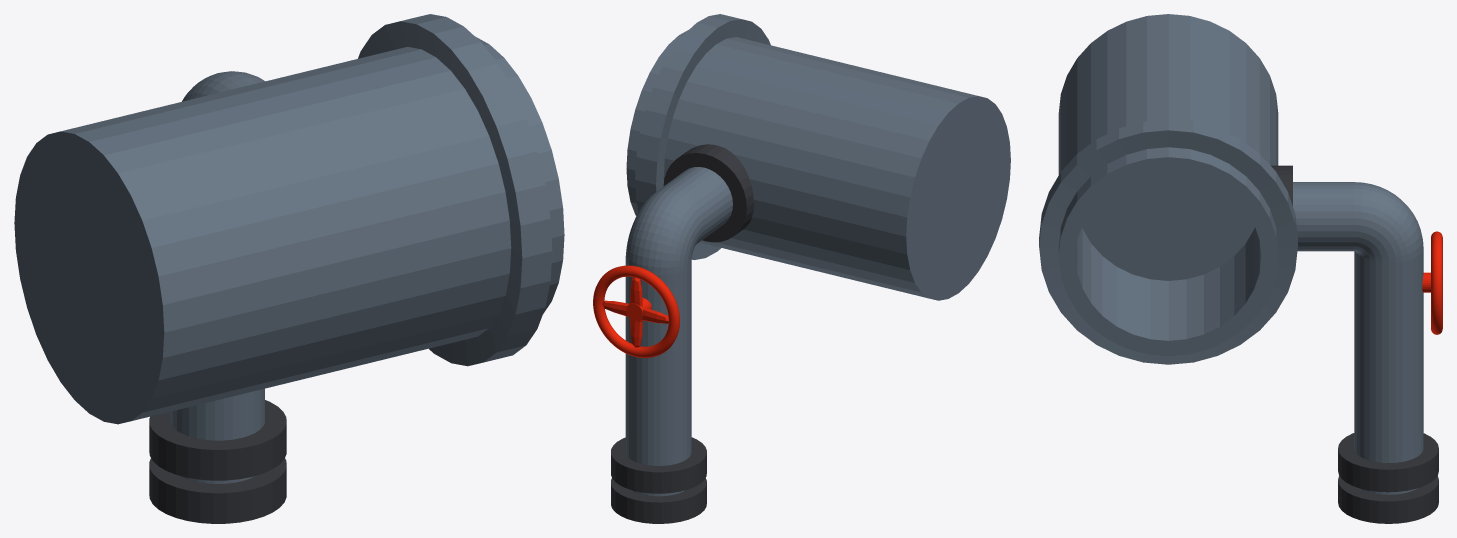
Rendered from Tunel_1.fbx.
3 views of the same model, side by side, from view 1: azimuth 30°, elevation 25°; view 2: azimuth 150°, elevation 25°; view 3: azimuth 270°, elevation 25° (orthographic). The views are drawn at different scales.
Parts seen in each view (by area): view 1: Cylinder; view 2: Cylinder; view 3: Cylinder.
Part boxes in pixels (x1=…): Cylinder: x1=14, y1=14, x2=564, y2=523; Cylinder: x1=593, y1=14, x2=1010, y2=523; Cylinder: x1=1039, y1=14, x2=1442, y2=523.
Size of the model in its own units: 308 by 409 by 368.
